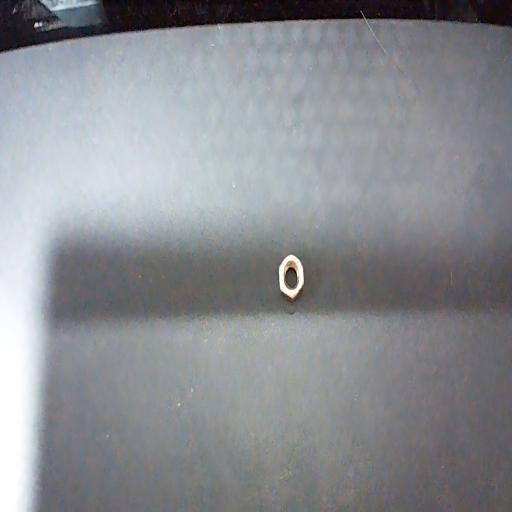nut: (279, 255, 304, 301)
